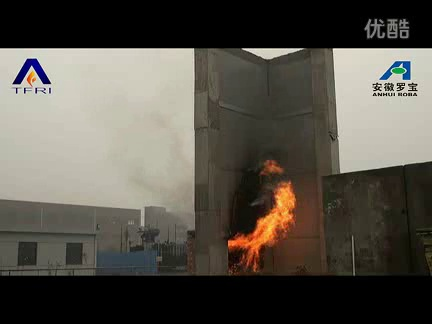fire: (225, 157, 299, 274)
